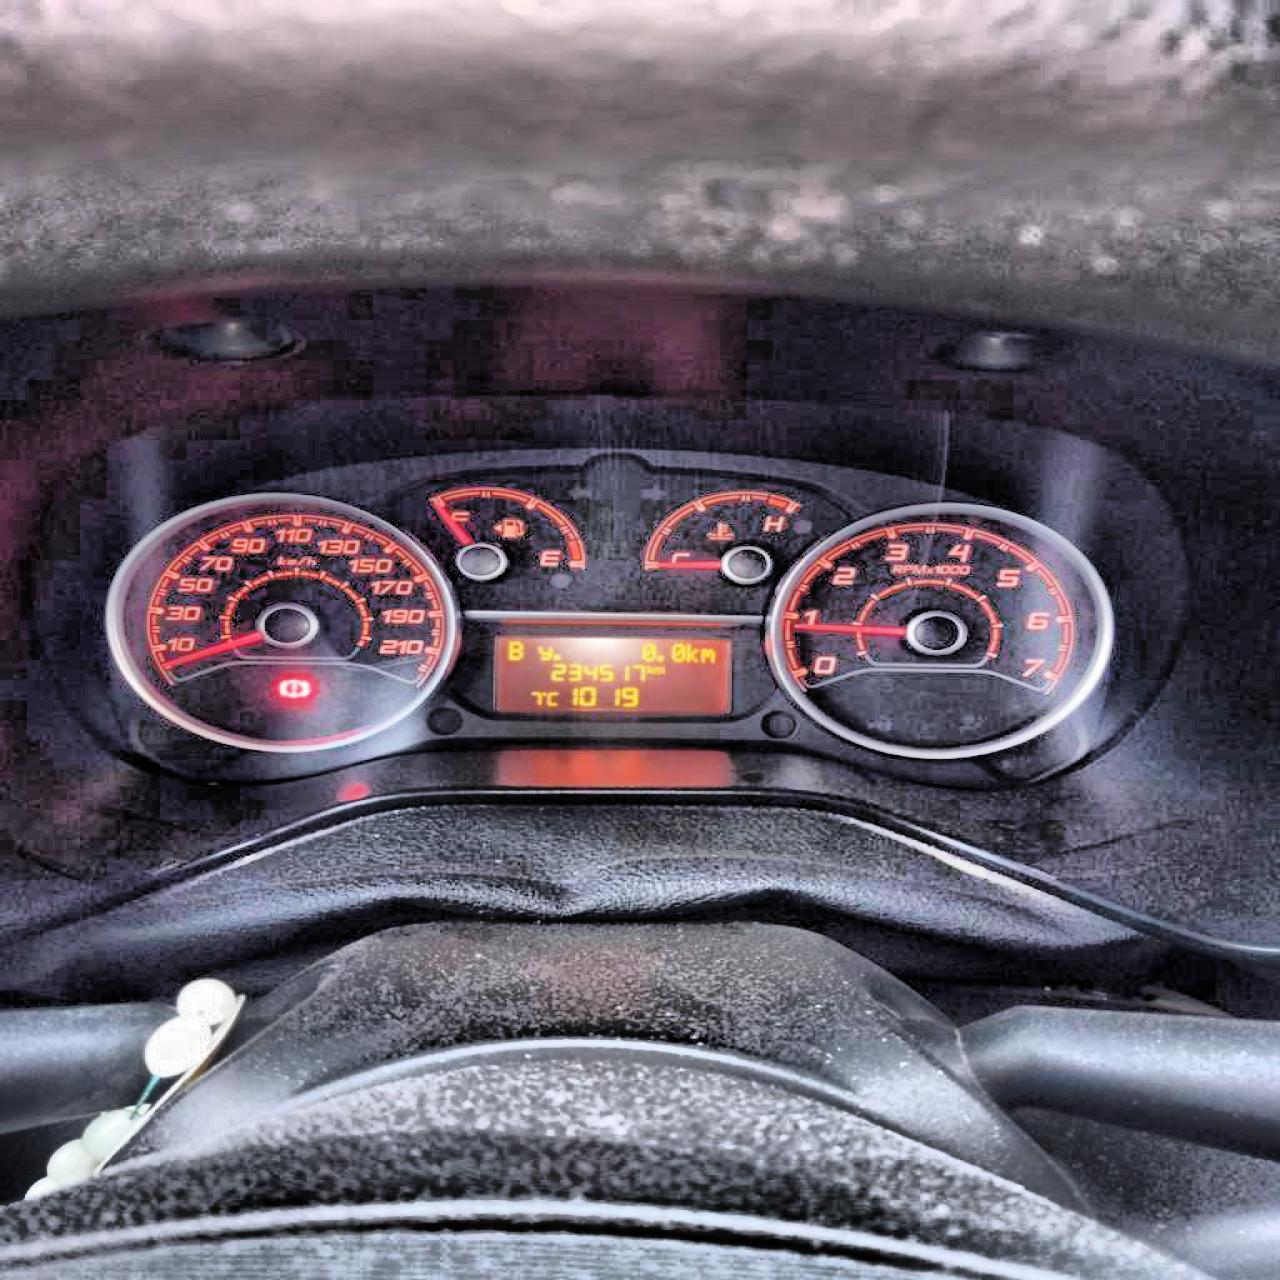-: (552, 651, 560, 660), (655, 653, 663, 662)
0: (578, 683, 597, 707), (668, 640, 683, 661), (640, 641, 655, 661)
1: (620, 662, 629, 683), (570, 685, 577, 704), (612, 685, 618, 706)
2: (549, 662, 565, 681)
3: (567, 662, 580, 681)
4: (581, 662, 597, 681)
5: (597, 662, 612, 681)
7: (629, 662, 645, 681), (530, 689, 540, 704)
9: (620, 685, 639, 706)
X: (506, 639, 523, 660), (699, 645, 716, 662), (685, 641, 699, 661), (537, 644, 551, 661), (546, 690, 558, 706), (653, 665, 665, 675), (645, 662, 653, 675)
odometer: (491, 632, 736, 717)
